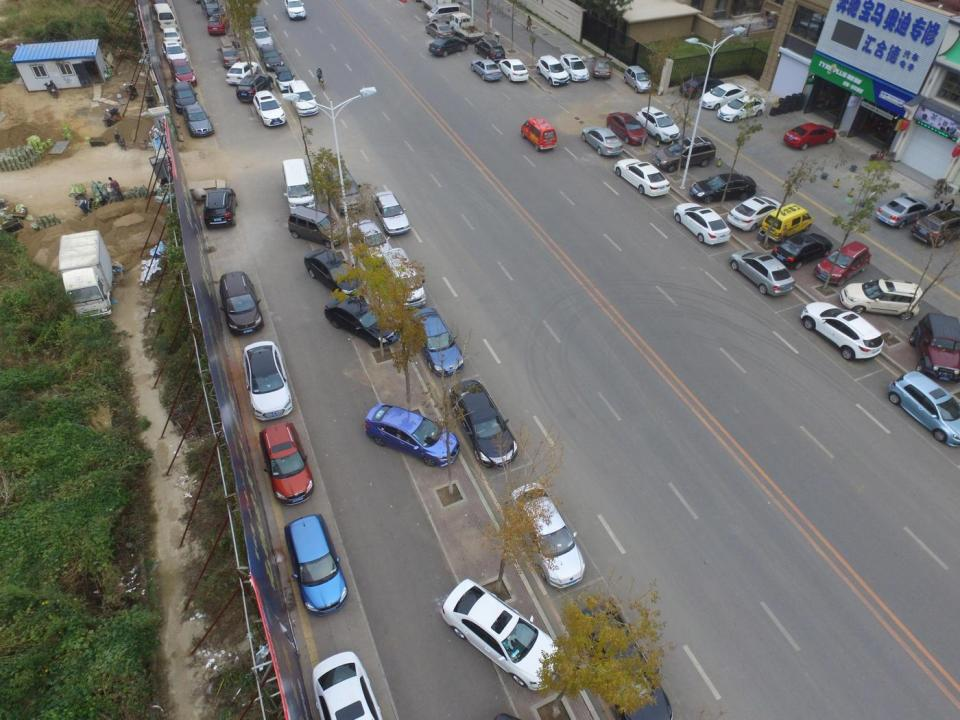car: (439, 577, 561, 690), (577, 601, 676, 719), (510, 483, 586, 588), (366, 402, 460, 468), (285, 517, 346, 617), (886, 368, 960, 450), (445, 382, 515, 468), (312, 650, 389, 720), (804, 297, 884, 363), (257, 427, 311, 506), (241, 340, 293, 420), (324, 295, 401, 348), (404, 310, 464, 375), (838, 279, 924, 321), (302, 249, 368, 301), (911, 314, 960, 384), (730, 249, 794, 297), (216, 271, 263, 335), (671, 203, 730, 244), (820, 241, 869, 289), (688, 173, 756, 206), (616, 159, 672, 199), (875, 194, 936, 229), (655, 137, 715, 172), (730, 195, 785, 232), (353, 219, 394, 267), (774, 235, 832, 268), (911, 210, 960, 249), (372, 191, 412, 237), (782, 120, 838, 150), (636, 106, 680, 141), (204, 185, 237, 231), (699, 82, 747, 112), (608, 112, 648, 147), (717, 94, 767, 122), (580, 126, 622, 157), (253, 89, 284, 129), (181, 102, 212, 140), (680, 74, 726, 99), (537, 56, 571, 88), (289, 79, 317, 117), (236, 73, 270, 102), (169, 56, 198, 90), (169, 80, 199, 112), (428, 35, 468, 58), (560, 52, 588, 84), (496, 58, 532, 82), (224, 60, 260, 84), (624, 64, 651, 94), (258, 43, 284, 72), (470, 57, 500, 82), (273, 65, 298, 95), (215, 42, 241, 70), (245, 6, 269, 34), (161, 26, 185, 54), (475, 39, 504, 61), (162, 43, 188, 67), (426, 20, 455, 41), (251, 26, 275, 51), (593, 54, 615, 80), (206, 12, 230, 35), (284, 0, 307, 21)
truck: (56, 228, 115, 321), (448, 13, 484, 42)
van: (380, 249, 426, 309), (286, 206, 345, 248), (761, 202, 815, 246), (324, 160, 363, 216), (280, 157, 316, 217), (521, 114, 558, 150), (151, 3, 177, 34), (426, 5, 461, 26)
